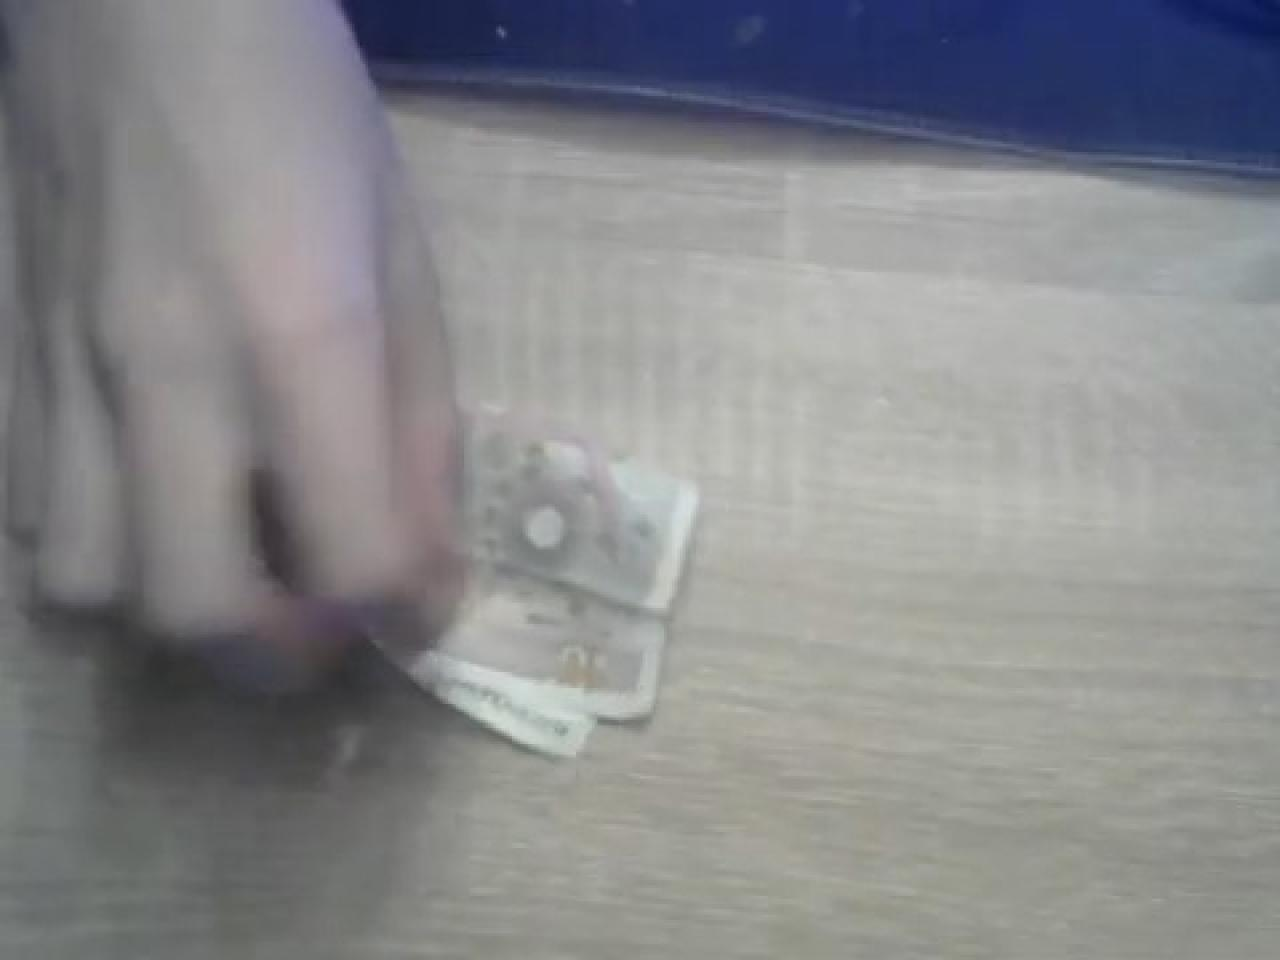10leva: (366, 397, 701, 759)
